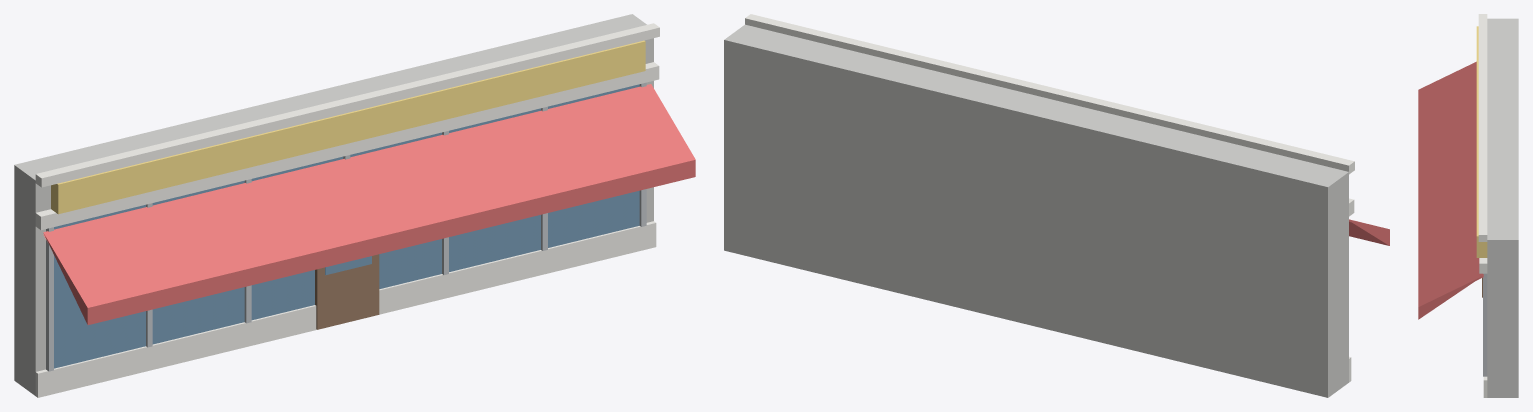
Rendered from storefront_a.glb.
The picture shows the model from 3 angles, left to right: view 1: azimuth 30°, elevation 25°; view 2: azimuth 150°, elevation 25°; view 3: azimuth 270°, elevation 25°; orthographic projection. The views are drawn at different scales.
Visible parts, largest first — view 1: storefront_a; view 2: storefront_a; view 3: storefront_a.
Boxes of the visible parts, x1,y1,x2,y2 form: storefront_a: [14, 14, 695, 397]; storefront_a: [724, 14, 1389, 397]; storefront_a: [1418, 14, 1518, 397].
Bounding box in the file's own units: 12 × 4.12 × 2.3.
